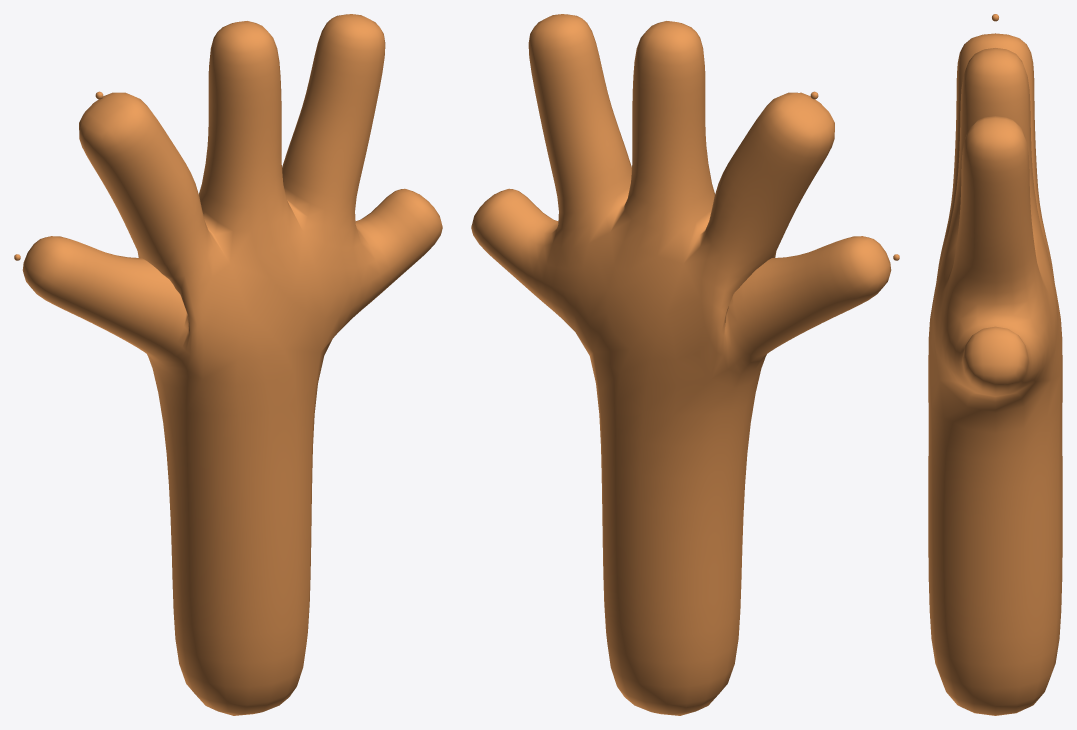
File: handFinished.glb
3 views of the same model, side by side, from view 1: azimuth 30°, elevation 25°; view 2: azimuth 150°, elevation 25°; view 3: azimuth 270°, elevation 25° (orthographic). The views are drawn at different scales.
Parts seen in each view (by area): view 1: Cube; view 2: Cube; view 3: Cube.
Boxes of the visible parts, x1,y1,x2,y2 form: Cube: (14,14,442,715); Cube: (471,14,899,715); Cube: (928,14,1062,715).
Size of the model in its own units: 19.44 by 30.06 by 5.56.
